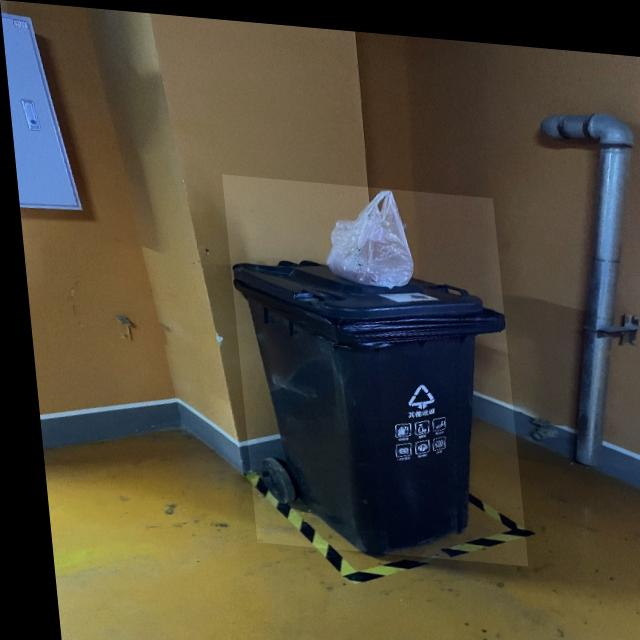overflow: (219, 171, 518, 557)
